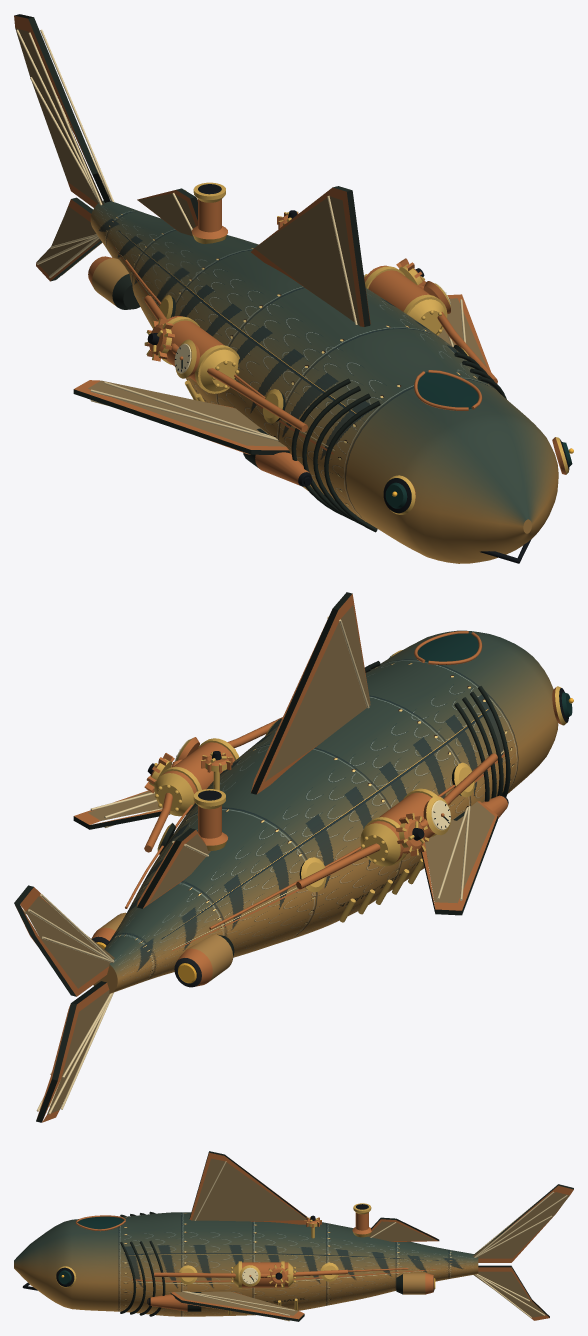
3 renders of one model, top to bottom at view 1: azimuth 30°, elevation 25°; view 2: azimuth 150°, elevation 25°; view 3: azimuth 270°, elevation 25°, orthographic. The views are drawn at different scales.
Visible parts, largest first — view 1: tiger_shark_hull; view 2: tiger_shark_hull; view 3: tiger_shark_hull.
Part boxes in pixels (bbox=[...]): tiger_shark_hull: bbox=[14, 14, 573, 563]; tiger_shark_hull: bbox=[14, 592, 573, 1122]; tiger_shark_hull: bbox=[14, 1151, 573, 1321].
Size of the model in its own units: 105 by 79.56 by 240.
1 material, 1 textured.
